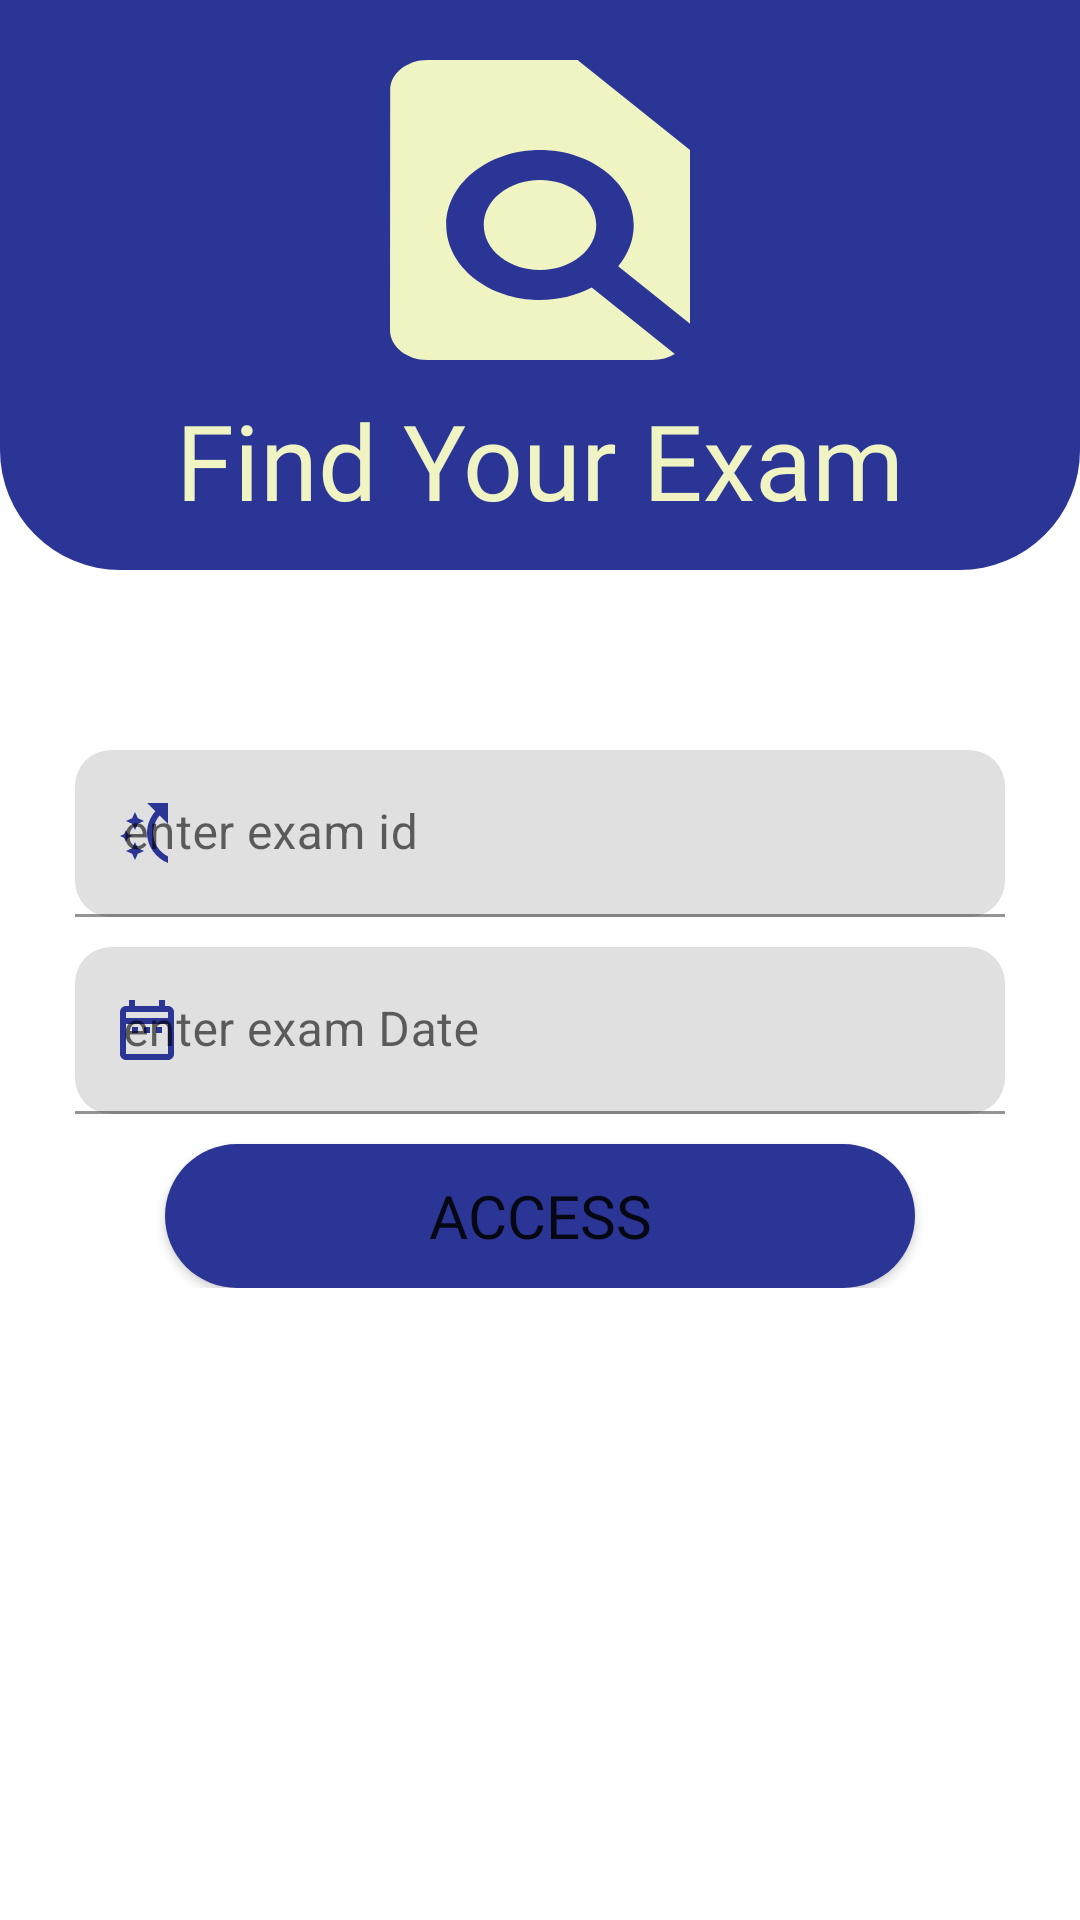

Point at icon controls on the screen. Image size 1080×1920, points as (x,y).
find in page: (540,210)
